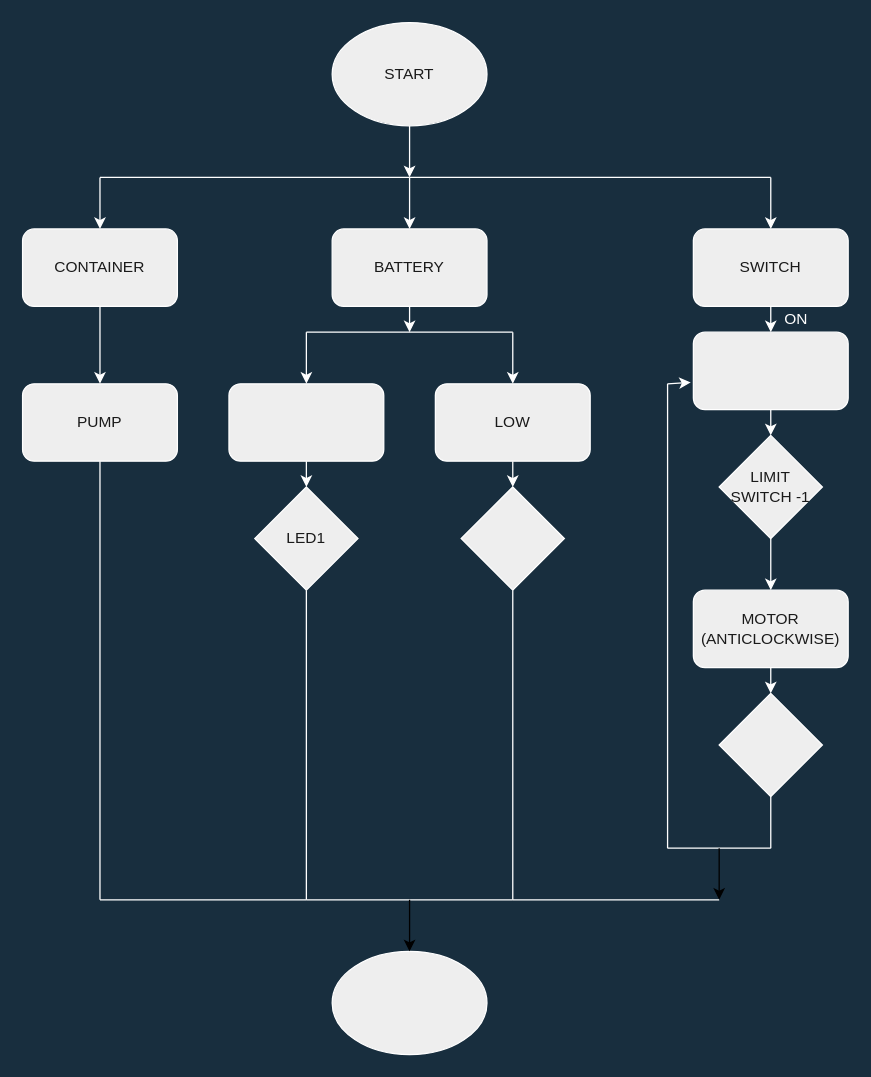
Some shapes in this 871 by 1077 pixel diagram are drawn without their labels. Here are the shapes that lost their labels. From the top down, the centre of each, then its label:
At point (770, 370): "MOTOR (Clockwise)".
At point (306, 421): "HIGH".
At point (512, 538): "LED2".
At point (770, 744): "LIMIT SWITCH-2".
At point (409, 1002): "STOP".
